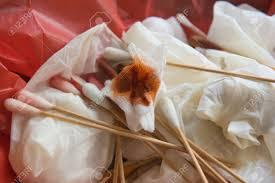cotton: (26, 2, 274, 182), (159, 66, 274, 182), (25, 24, 119, 122), (208, 1, 274, 66), (122, 22, 216, 67), (105, 78, 159, 131), (142, 17, 186, 41)
